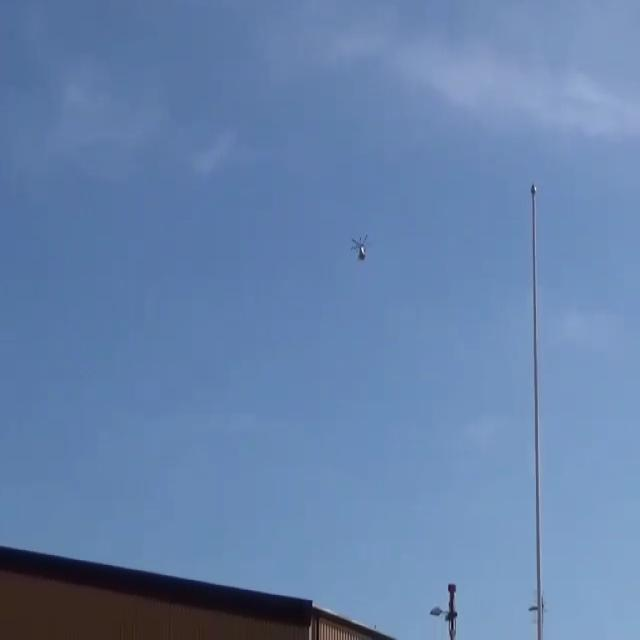Helicopter: (341, 228, 382, 270)
